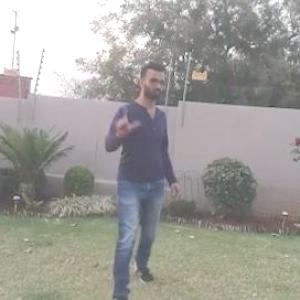land_hand: (106, 94, 141, 138)
